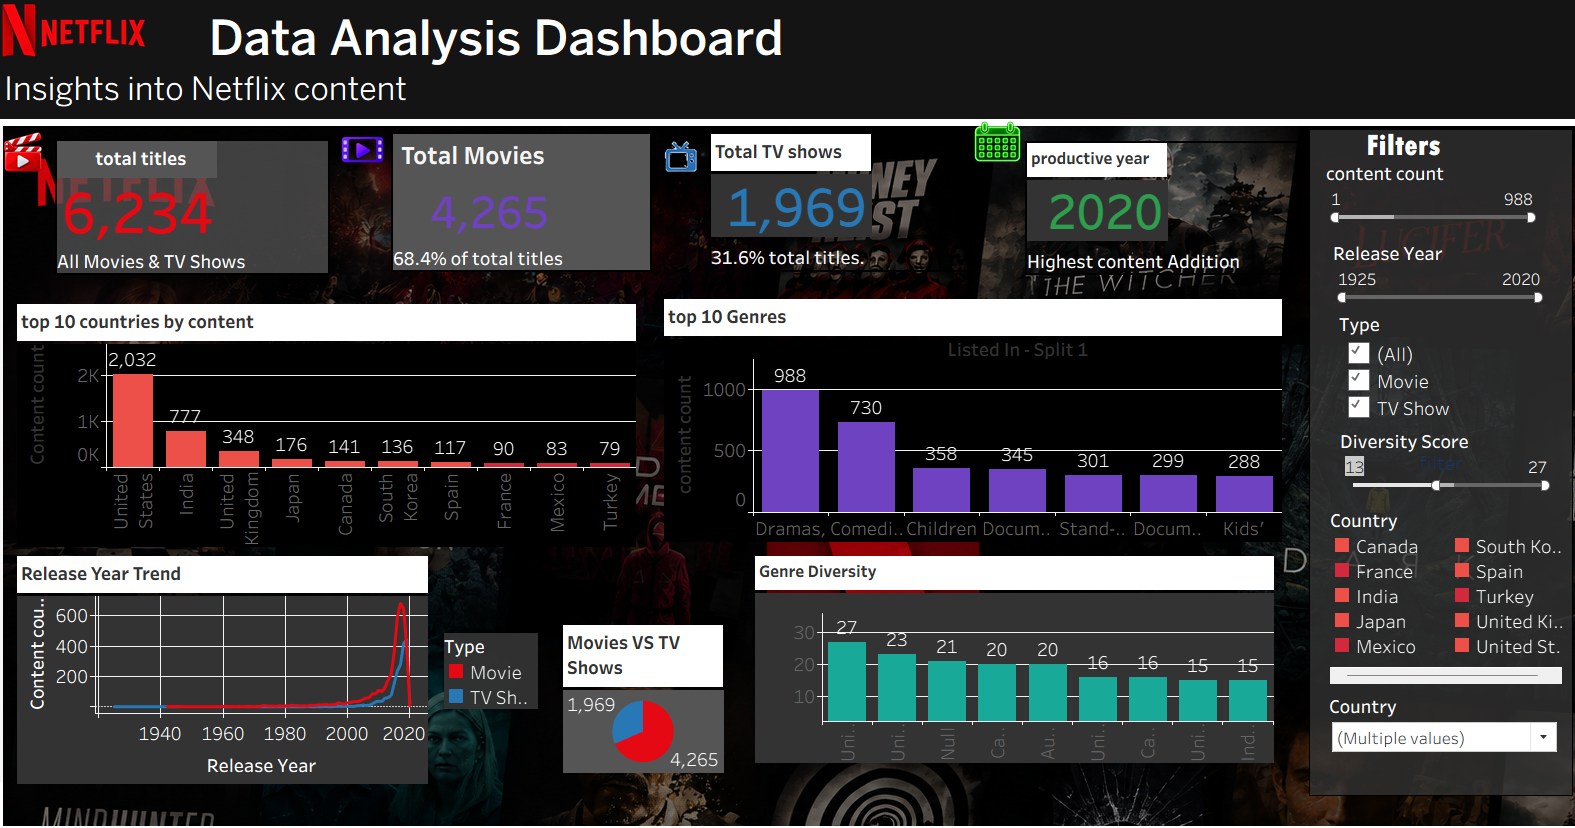

The page's visual inventory and layout, read from the dashboard file:
{"tool":"tableau","page":{"name":"nf dash board","canvas":[1000,1000],"units":"permille","ordinal":1},"visuals":[{"type":"title","box":[0,0,900.2,104.2]},{"type":"filter","title":"top countries ","param":"[federated.07xaitn1lccyj81fxfeo81sq8mzs].[none:country:nk]","box":[858.5,12.4,129.7,369.7]},{"type":"worksheet","title":"most productive year","mark":"Automatic","box":[665,70,326.7,315]},{"type":"worksheet","title":"total tv shows","mark":"Automatic","box":[440,91.2,228.3,277.5]},{"type":"worksheet","title":" total movies","mark":"Automatic","box":[208.3,95,228.3,323.8]},{"type":"worksheet","title":"  total titles","mark":"Automatic","box":[5,106.2,227.5,296.2]},{"type":"worksheet","title":"top countries ","mark":"Bar","rows":["show_id"],"cols":["country"],"box":[13.3,323.8,379.2,352.5]},{"type":"worksheet","title":"top genres","mark":"Automatic","rows":["show_id"],"cols":["listed_in - Split 1"],"box":[465.7,353.6,378.4,323.8]},{"type":"highlighter","title":"top countries ","param":"[federated.07xaitn1lccyj81fxfeo81sq8mzs].[none:country:nk]","box":[860.4,410.7,133.4,75.7]},{"type":"filter","title":"top genres","param":"[federated.07xaitn1lccyj81fxfeo81sq8mzs].[cnt:show_id:qk]","box":[865.8,580,133.3,86.2]},{"type":"worksheet","title":"movies vs TV shows","mark":"Pie","box":[375,663.8,228,323.8]},{"type":"worksheet","title":"genre diversity","mark":"Bar","rows":["Calculation_1172936290496512"],"cols":["country"],"box":[640,672.5,216.7,323.8]},{"type":"filter","title":"genre diversity","param":"[federated.07xaitn1lccyj81fxfeo81sq8mzs].[sum:Calculation_1172936290496512:qk]","box":[868.3,740,133.3,86.2]},{"type":"legend","title":"movies vs TV shows","param":"[federated.07xaitn1lccyj81fxfeo81sq8mzs].[none:type:nk]","box":[493,777.5,140,95]},{"type":"filter","title":"movies vs TV shows","param":"[federated.07xaitn1lccyj81fxfeo81sq8mzs].[none:type:nk]","box":[862.5,846.2,133.3,141.2]}]}

Visuals, with their boxes on the dashboard's canvas, which has no fixed pixel size, in thousandths of its width and height (x1, y1, x2, y2). These are canvas units, not pixel positions in the 1575x828 screenshot, which may show the page scaled, cropped or inside an application window:
title: bbox(0, 0, 900, 104)
"top countries " filter: bbox(858, 12, 988, 382)
"most productive year" worksheet: bbox(665, 70, 992, 385)
"total tv shows" worksheet: bbox(440, 91, 668, 369)
" total movies" worksheet: bbox(208, 95, 437, 419)
"  total titles" worksheet: bbox(5, 106, 232, 402)
"top countries " worksheet (Bar marks): bbox(13, 324, 392, 676)
"top genres" worksheet: bbox(466, 354, 844, 677)
"top countries " highlighter: bbox(860, 411, 994, 486)
"top genres" filter: bbox(866, 580, 999, 666)
"movies vs TV shows" worksheet (Pie marks): bbox(375, 664, 603, 988)
"genre diversity" worksheet (Bar marks): bbox(640, 672, 857, 996)
"genre diversity" filter: bbox(868, 740, 1002, 826)
"movies vs TV shows" legend: bbox(493, 778, 633, 872)
"movies vs TV shows" filter: bbox(862, 846, 996, 987)
